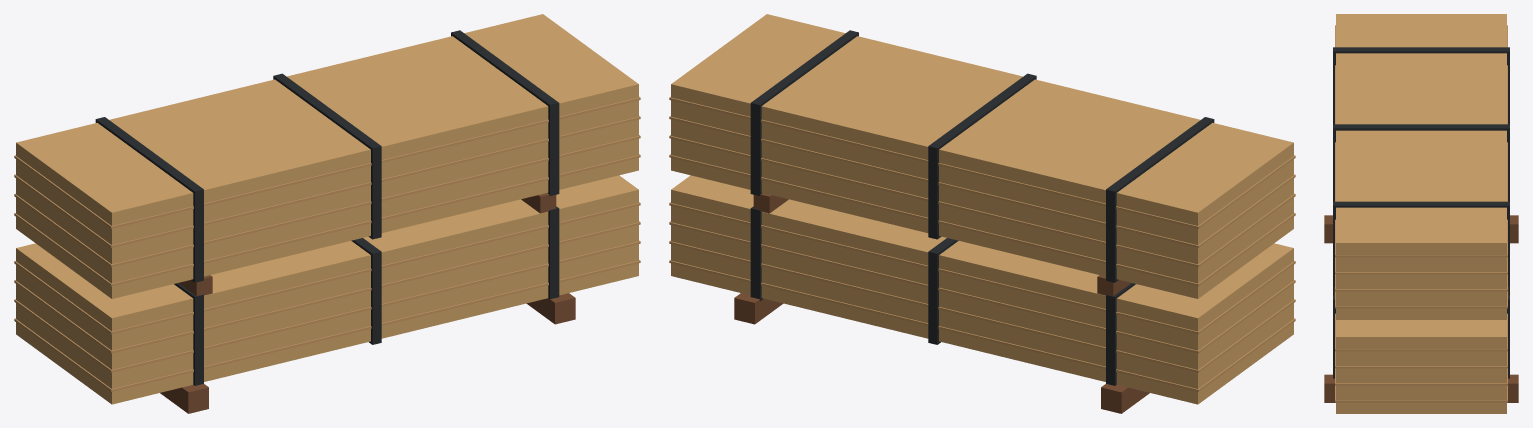
File: lumber_stack_banded.glb
3 views of the same model, side by side, from view 1: azimuth 30°, elevation 25°; view 2: azimuth 150°, elevation 25°; view 3: azimuth 270°, elevation 25° (orthographic). The views are drawn at different scales.
Parts seen in each view (by area): view 1: lumber_stack_banded; view 2: lumber_stack_banded; view 3: lumber_stack_banded.
Part boxes in pixels (box(x1,y1,x2,y2)): lumber_stack_banded: box(14, 14, 640, 413); lumber_stack_banded: box(669, 14, 1295, 413); lumber_stack_banded: box(1324, 14, 1518, 413).
Bounding box in the file's own units: 4.62 × 1.8 × 1.65.
